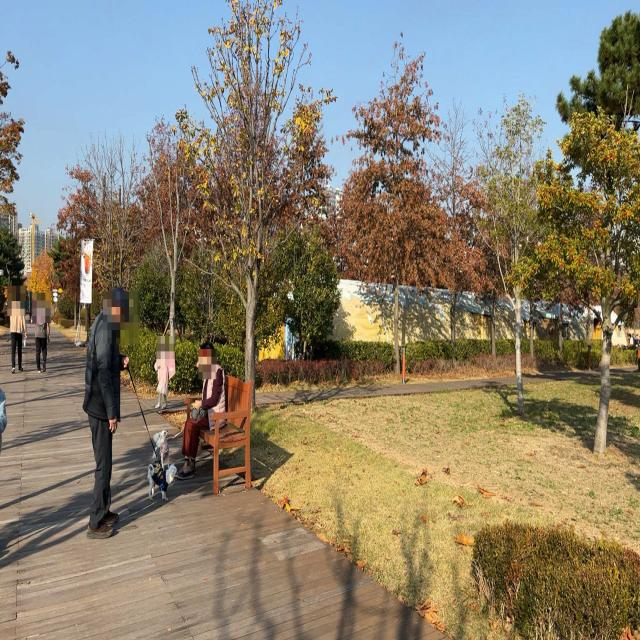Leashed_Dog: (109, 360, 178, 502), (150, 420, 198, 471)
